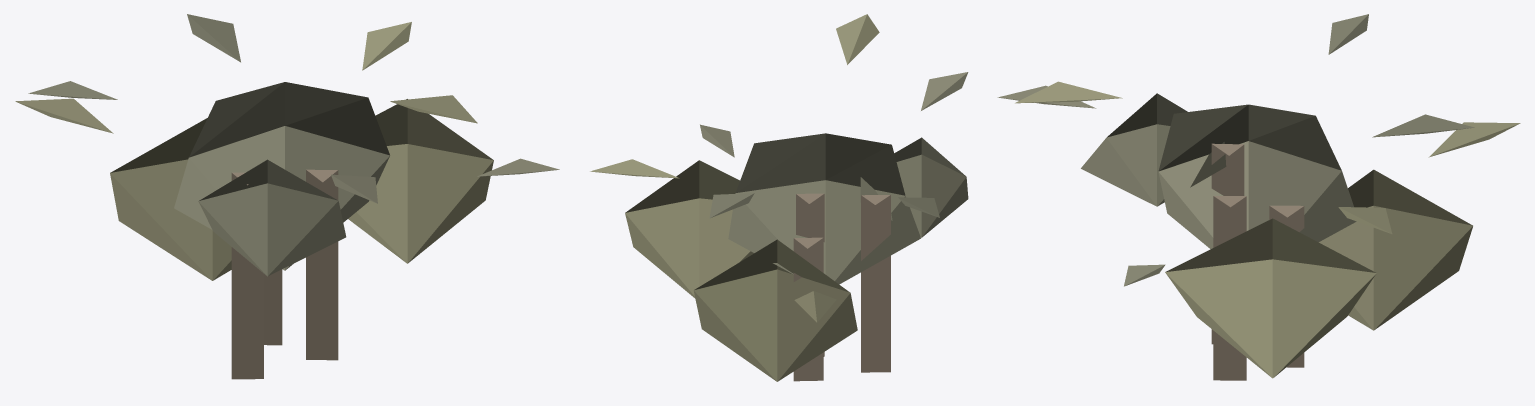
Rendered from guan.zhen@subadult__winter.glb.
3 views of the same model, side by side, from view 1: azimuth 30°, elevation 25°; view 2: azimuth 150°, elevation 25°; view 3: azimuth 270°, elevation 25° (orthographic). The views are drawn at different scales.
Visible parts, largest first — view 1: guan.zhen@subadult__winter; view 2: guan.zhen@subadult__winter; view 3: guan.zhen@subadult__winter.
Boxes of the visible parts, x1=… form: guan.zhen@subadult__winter: x1=15, y1=14, x2=559, y2=379; guan.zhen@subadult__winter: x1=590, y1=14, x2=968, y2=381; guan.zhen@subadult__winter: x1=997, y1=14, x2=1520, y2=380.
Bounding box in the file's own units: 1.46 × 1.06 × 1.64.
